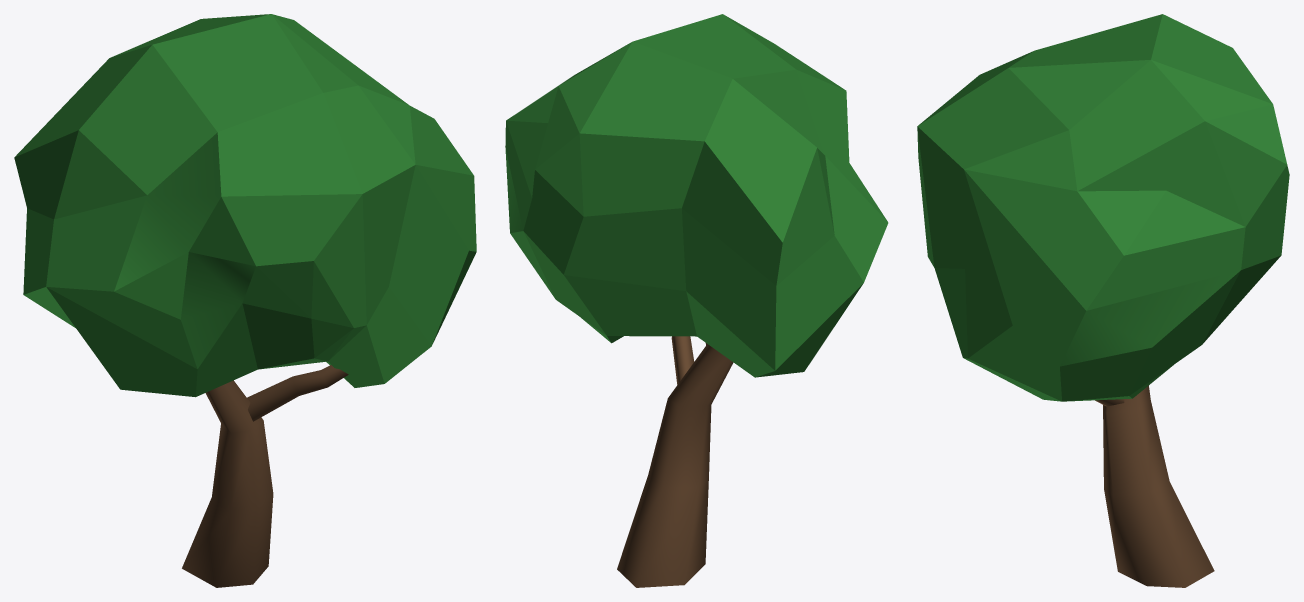
File: Tree_C.fbx
3 views of the same model, side by side, from view 1: azimuth 30°, elevation 25°; view 2: azimuth 150°, elevation 25°; view 3: azimuth 270°, elevation 25° (orthographic). The views are drawn at different scales.
Parts seen in each view (by area): view 1: Tree_C; view 2: Tree_C; view 3: Tree_C.
Part boxes in pixels (left/top/right/bottom): Tree_C: left=14, top=14, right=476, bottom=587; Tree_C: left=505, top=14, right=888, bottom=587; Tree_C: left=917, top=14, right=1289, bottom=587.
Size of the model in its own units: 275 by 356 by 227.
